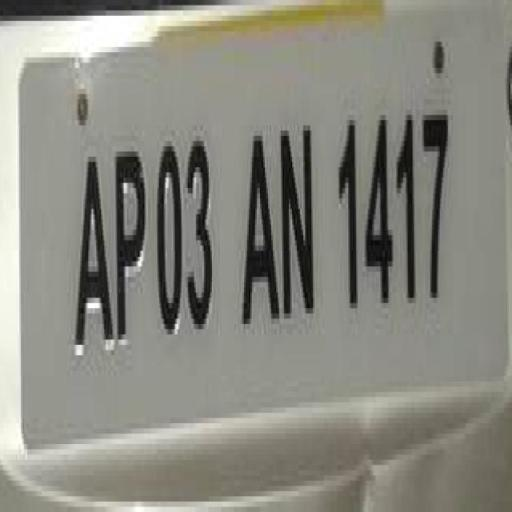number plate: (11, 0, 512, 413)
